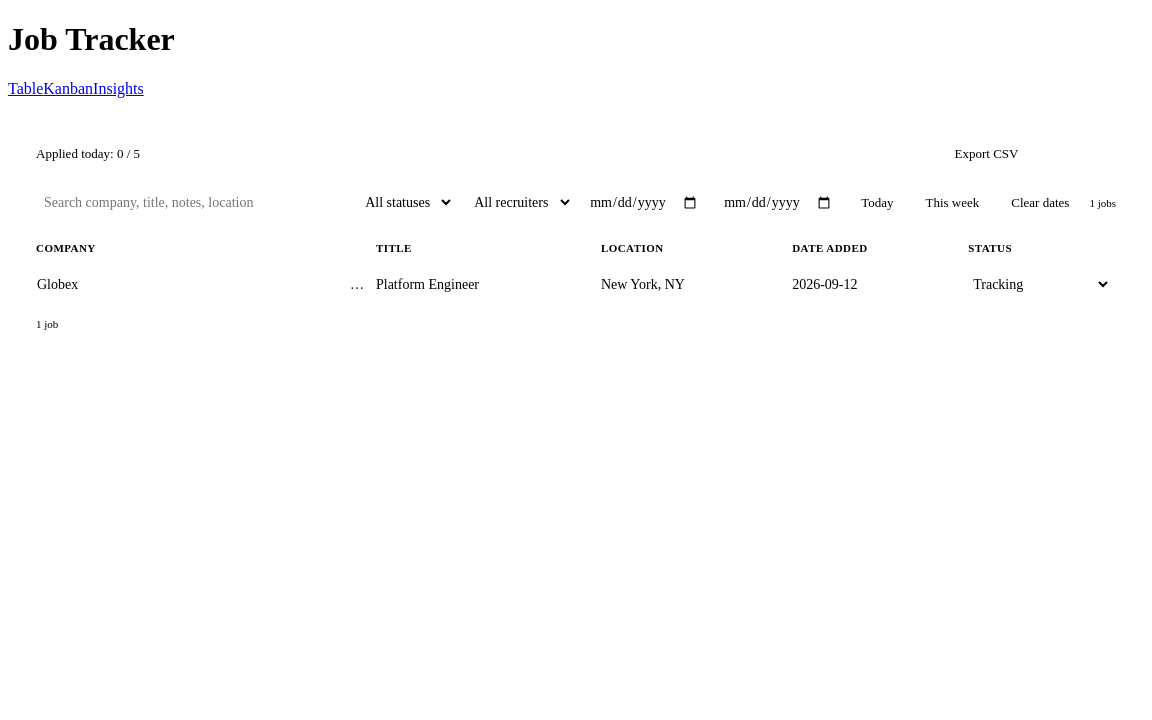
Test: opening a job from the list › opens it as a drawer, not as a new page
Click the text "Platform Engineer".
click(428, 286)  # box [376, 274, 479, 297]
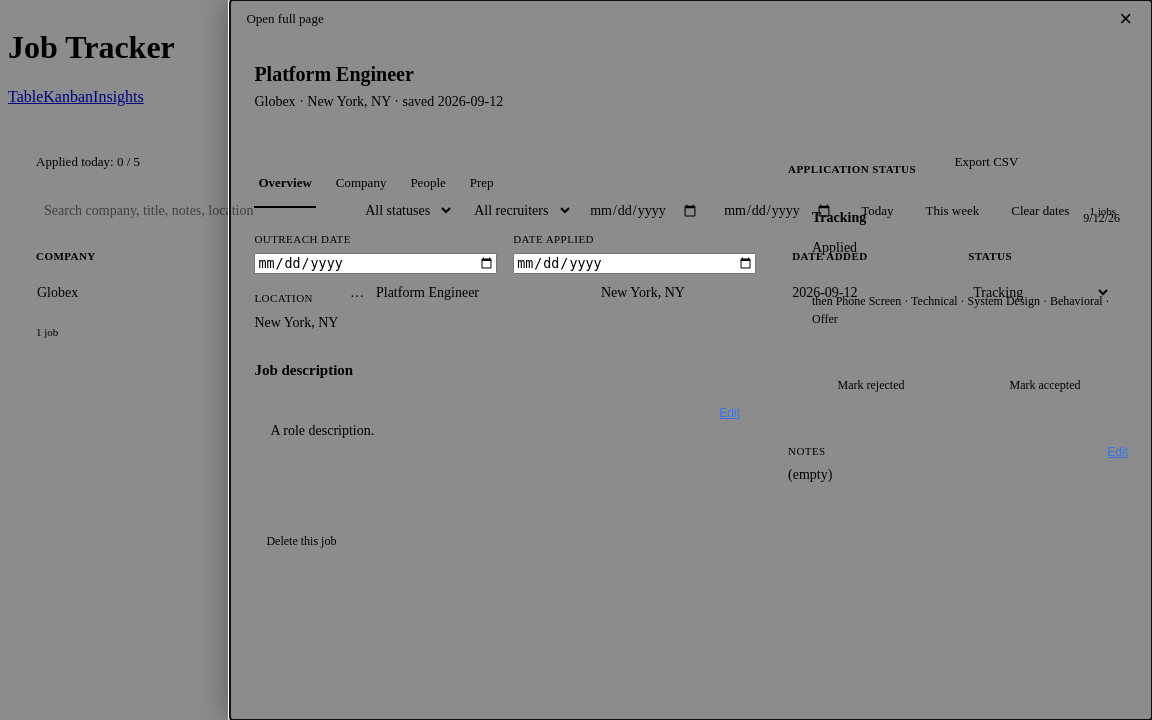
Now the dialog named "job details" is shown
